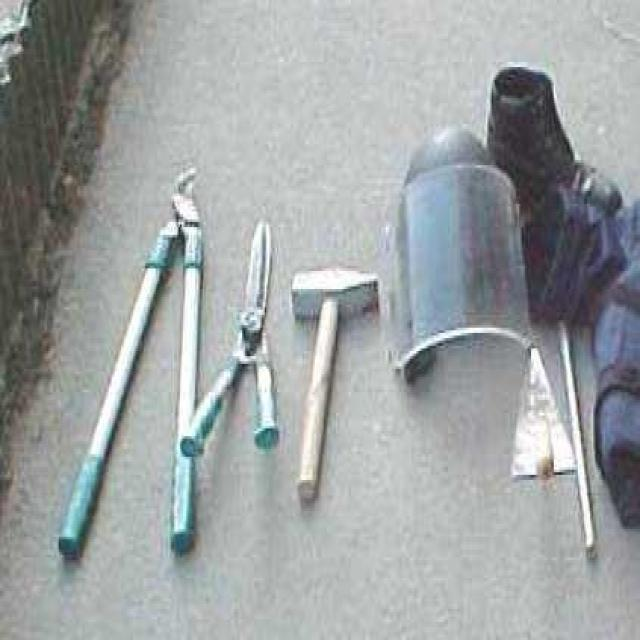hammer: (284, 261, 380, 517)
